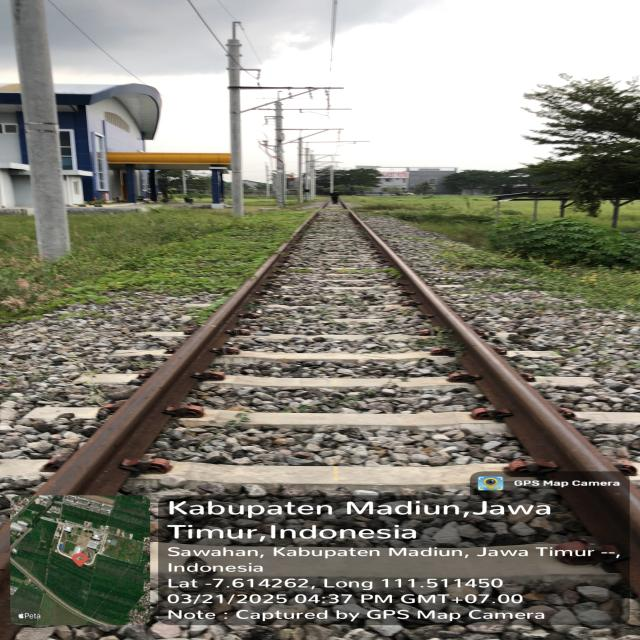rail-detection: (350, 213, 640, 595), (36, 254, 280, 495)
